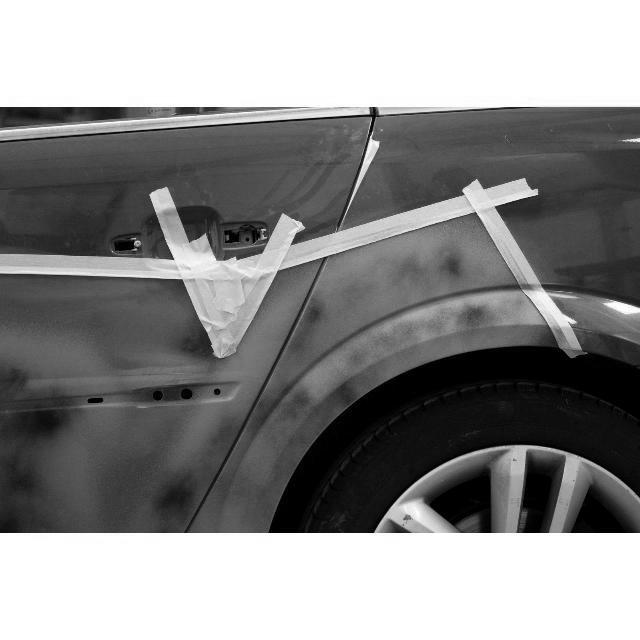doorouter-dent: (0, 145, 326, 480)
quaterpanel-dent: (368, 138, 639, 358)
